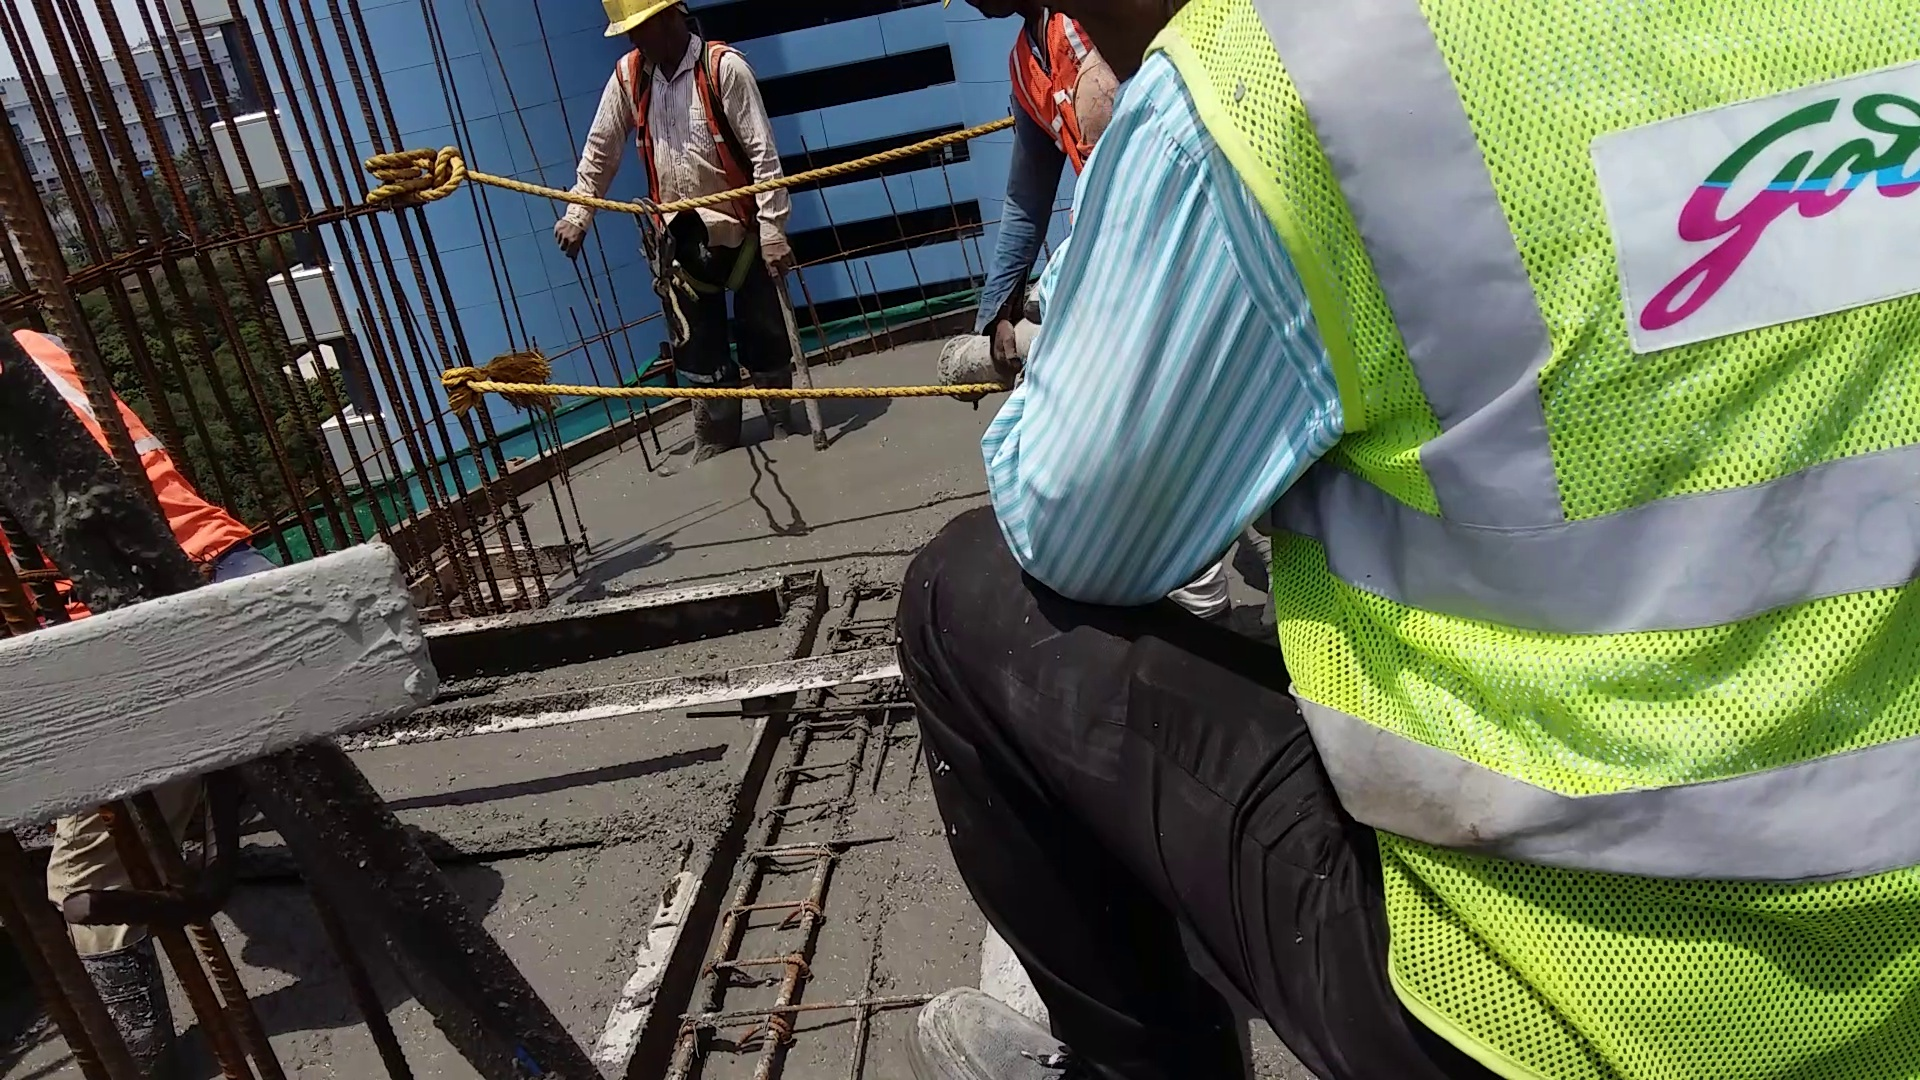SAFE: (615, 1, 758, 240)
